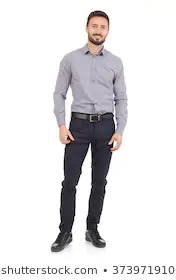F_belt: (69, 113, 115, 122)
F_dress pants: (57, 110, 116, 229)
F_shirt: (53, 42, 130, 136)
